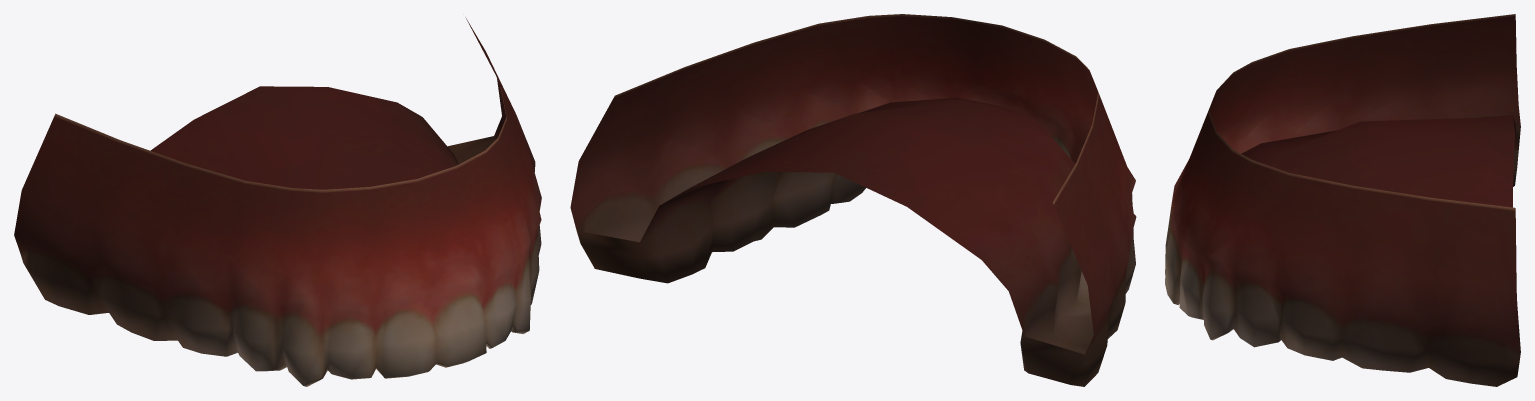
Rendered from Uth_Teeth_Up_MshShape.obj.
3 renders of one model, left to right at view 1: azimuth 30°, elevation 25°; view 2: azimuth 150°, elevation 25°; view 3: azimuth 270°, elevation 25°, orthographic. The views are drawn at different scales.
Parts seen in each view (by area): view 1: Uth_Teeth_Up_Msh Head_Grp SkinnedMesh Mesh CharacterRoot; view 2: Uth_Teeth_Up_Msh Head_Grp SkinnedMesh Mesh CharacterRoot; view 3: Uth_Teeth_Up_Msh Head_Grp SkinnedMesh Mesh CharacterRoot.
Boxes of the visible parts, x1=… form: Uth_Teeth_Up_Msh Head_Grp SkinnedMesh Mesh CharacterRoot: x1=14, y1=17, x2=541, y2=386; Uth_Teeth_Up_Msh Head_Grp SkinnedMesh Mesh CharacterRoot: x1=570, y1=14, x2=1136, y2=386; Uth_Teeth_Up_Msh Head_Grp SkinnedMesh Mesh CharacterRoot: x1=1165, y1=14, x2=1520, y2=386.
Size of the model in its own units: 8.79 by 3.15 by 5.7.
Materials: 1 (1 with a texture image).
